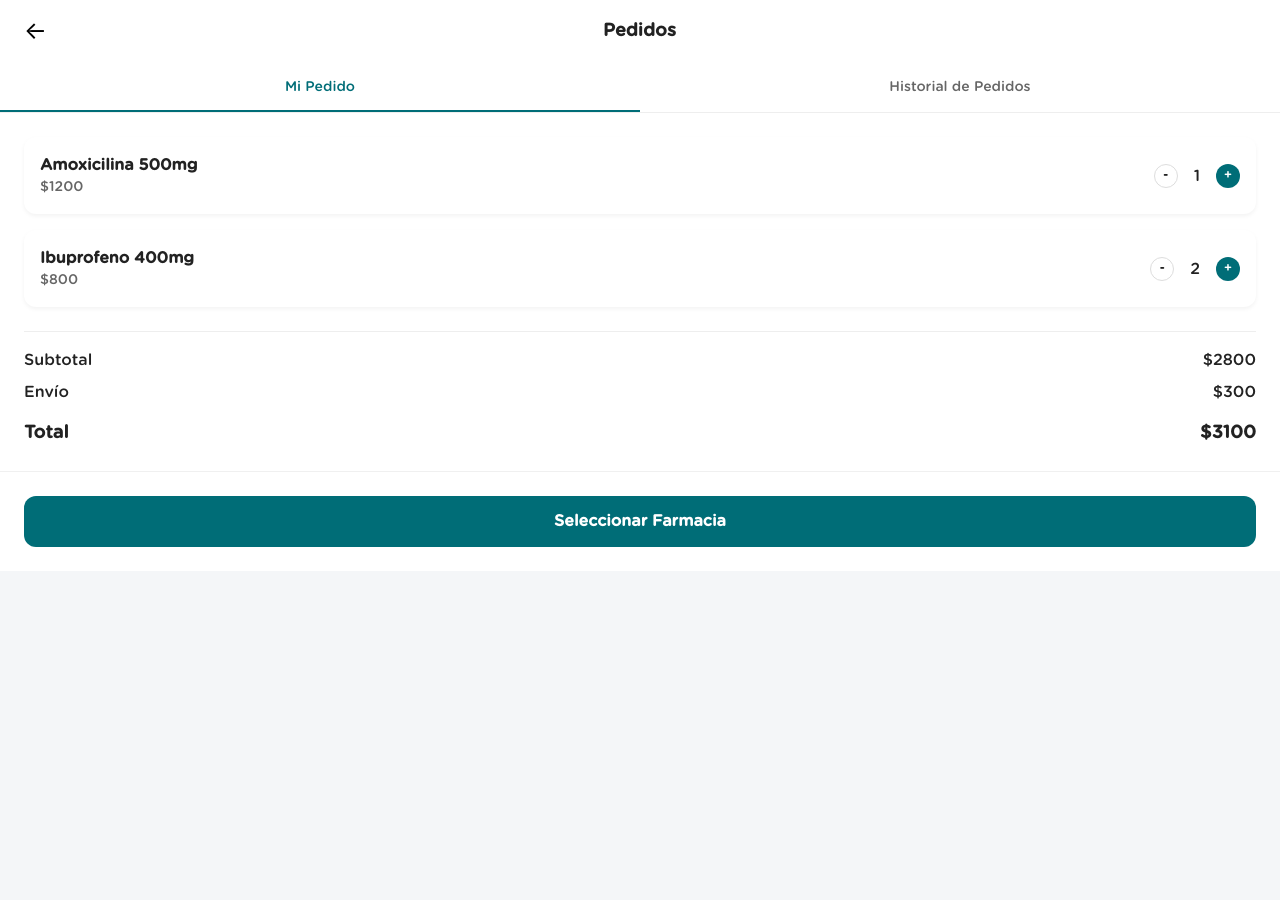
Test case: OrderReview Component › switches back to current order tab
// Switch to history
Click the button "Historial de Pedidos" at [960, 88], box [640, 63, 1279, 112]
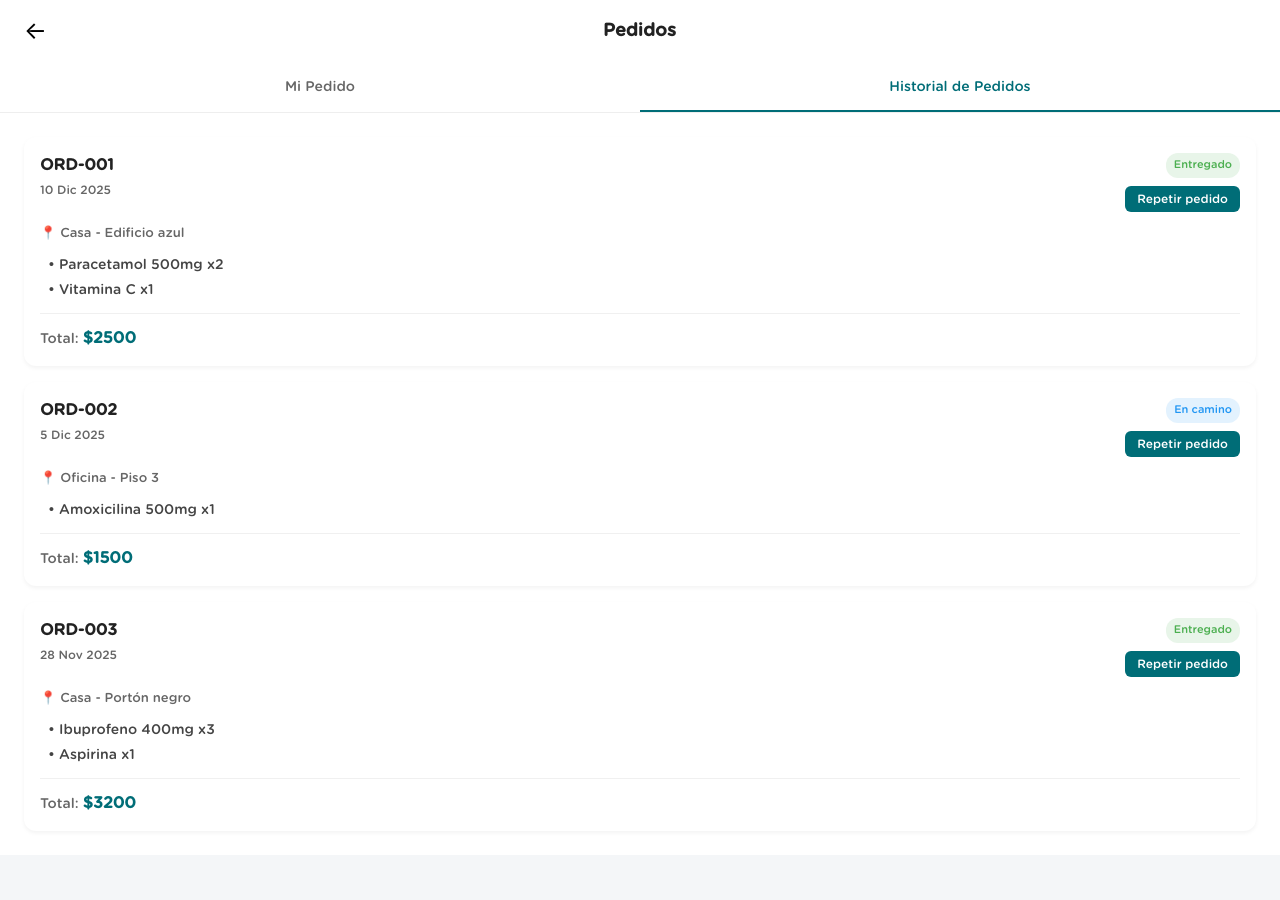
Expected: the text "ORD-001" is shown, [40, 153, 114, 177]
// Switch back to current order
Click the button "Mi Pedido" at [320, 88], box [0, 63, 640, 112]
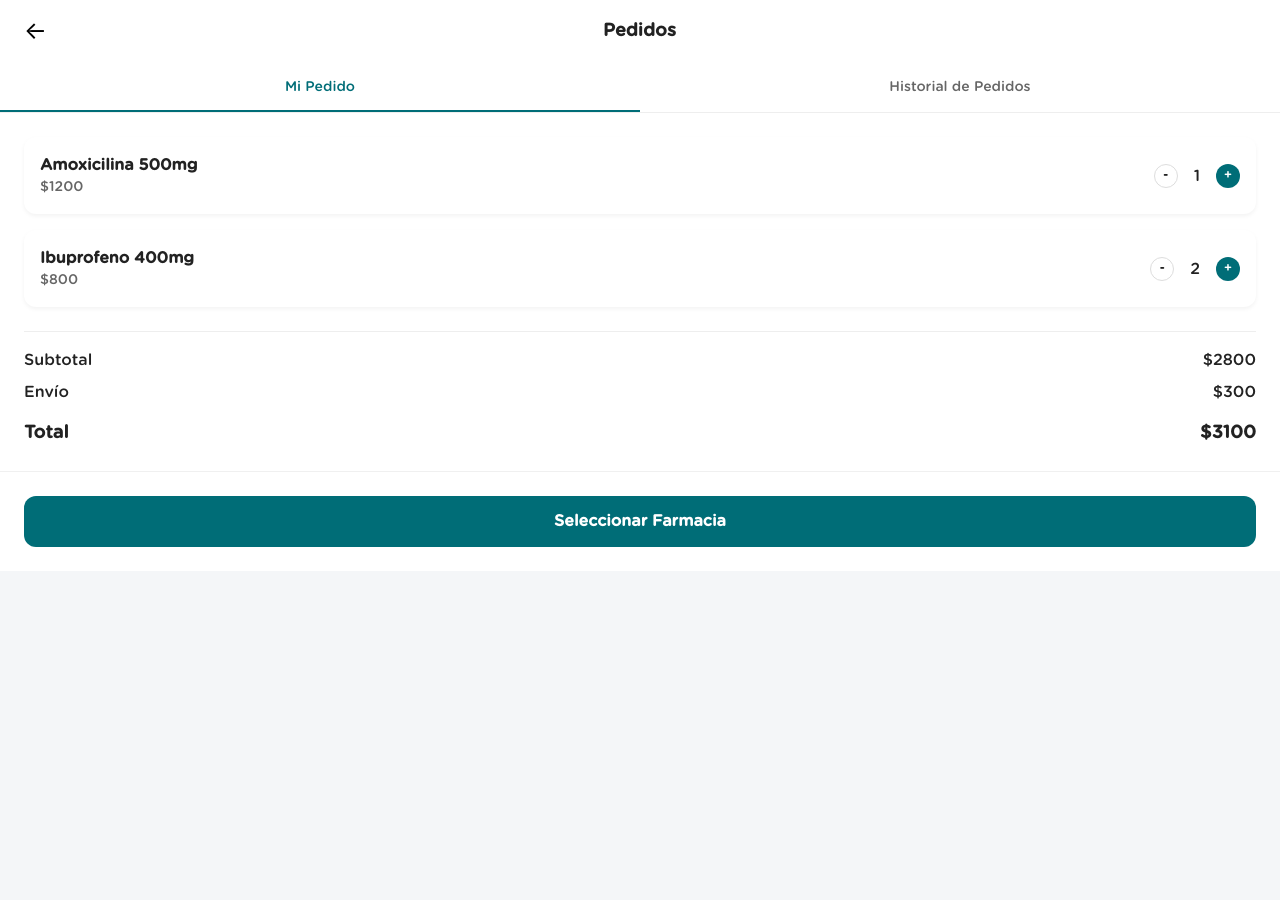
Expected: the text "Amoxicilina 500mg" is shown, [40, 153, 198, 177]
Expected: the button "Seleccionar Farmacia" is shown, [24, 496, 1256, 547]
